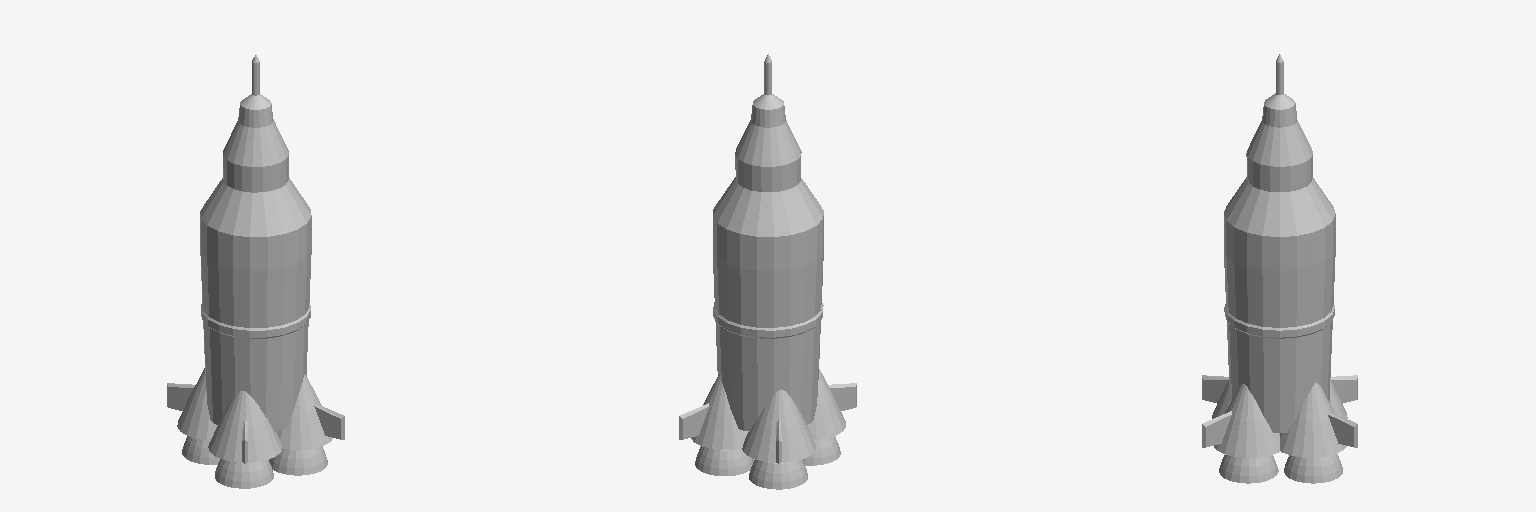
Rendered from saturn.obj.
The picture shows the model from 3 angles: view 1: azimuth 30°, elevation 25°; view 2: azimuth 150°, elevation 25°; view 3: azimuth 270°, elevation 25°; orthographic projection.
Visible parts, largest first — view 1: rocketmockup1:Rocket_Saturn rocketmockup1:Base, rocketmockup1:Rocket_Saturn rocketmockup1:P2, rocketmockup1:Rocket_Saturn rocketmockup1:P1, rocketmockup1:Rocket_Saturn rocketmockup1:polySurface21, rocketmockup1:polySurface20 rocketmockup1:Rocket_Saturn; view 2: rocketmockup1:Rocket_Saturn rocketmockup1:Base, rocketmockup1:Rocket_Saturn rocketmockup1:P2, rocketmockup1:Rocket_Saturn rocketmockup1:P1, rocketmockup1:Rocket_Saturn rocketmockup1:polySurface21, rocketmockup1:polySurface20 rocketmockup1:Rocket_Saturn; view 3: rocketmockup1:Rocket_Saturn rocketmockup1:Base, rocketmockup1:Rocket_Saturn rocketmockup1:P2, rocketmockup1:Rocket_Saturn rocketmockup1:P1, rocketmockup1:Rocket_Saturn rocketmockup1:polySurface21, rocketmockup1:polySurface20 rocketmockup1:Rocket_Saturn.
Part boxes in pixels (x1,y1,x2,y2): rocketmockup1:Rocket_Saturn rocketmockup1:Base: (167, 303, 344, 488); rocketmockup1:Rocket_Saturn rocketmockup1:P2: (200, 178, 311, 270); rocketmockup1:Rocket_Saturn rocketmockup1:P1: (200, 249, 311, 327); rocketmockup1:Rocket_Saturn rocketmockup1:polySurface21: (223, 119, 288, 192); rocketmockup1:polySurface20 rocketmockup1:Rocket_Saturn: (238, 55, 272, 127); rocketmockup1:Rocket_Saturn rocketmockup1:Base: (679, 302, 856, 489); rocketmockup1:Rocket_Saturn rocketmockup1:P2: (713, 177, 823, 270); rocketmockup1:Rocket_Saturn rocketmockup1:P1: (713, 250, 823, 327); rocketmockup1:Rocket_Saturn rocketmockup1:polySurface21: (735, 120, 801, 191); rocketmockup1:polySurface20 rocketmockup1:Rocket_Saturn: (751, 54, 785, 127); rocketmockup1:Rocket_Saturn rocketmockup1:Base: (1202, 304, 1357, 483); rocketmockup1:Rocket_Saturn rocketmockup1:P2: (1224, 177, 1335, 270); rocketmockup1:Rocket_Saturn rocketmockup1:P1: (1224, 248, 1335, 327); rocketmockup1:Rocket_Saturn rocketmockup1:polySurface21: (1246, 120, 1312, 191); rocketmockup1:polySurface20 rocketmockup1:Rocket_Saturn: (1262, 54, 1296, 127).
Size of the model in its own units: 2.18 by 7.19 by 2.52.